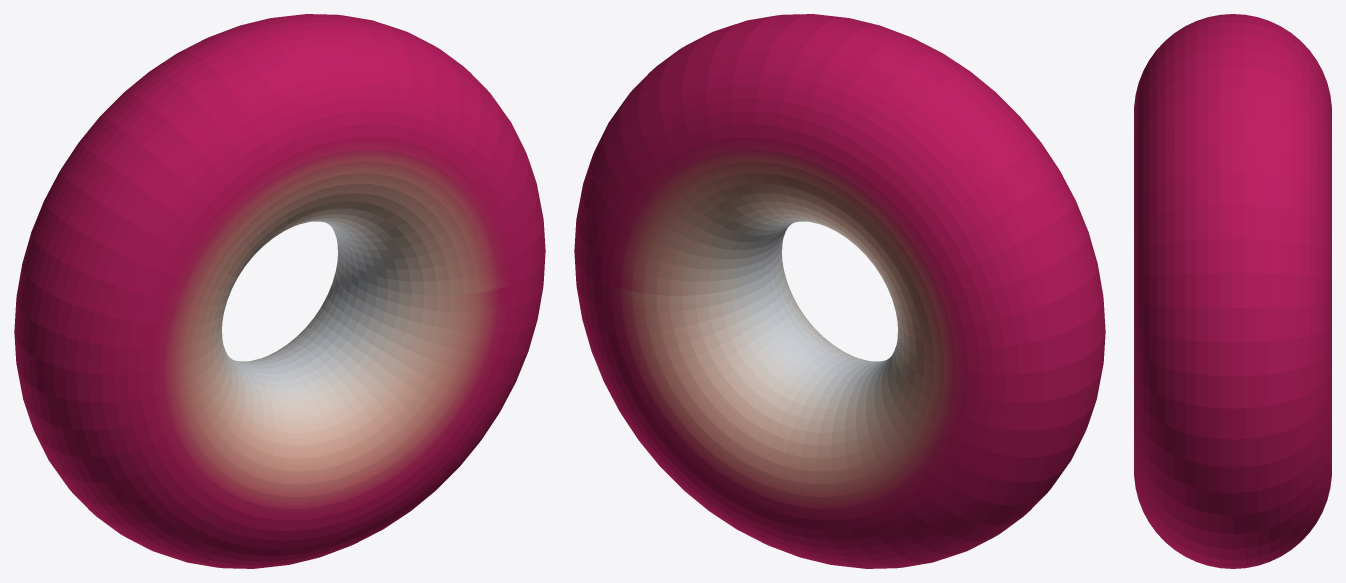
The picture shows the model from 3 angles, left to right: view 1: azimuth 30°, elevation 25°; view 2: azimuth 150°, elevation 25°; view 3: azimuth 270°, elevation 25°; orthographic projection. The views are drawn at different scales.
Parts seen in each view (by area): view 1: world; view 2: world; view 3: world.
Boxes of the visible parts, <box> form: world: <box>14,14,545,568</box>; world: <box>574,14,1105,568</box>; world: <box>1134,14,1331,568</box>.
Bounding box in the file's own units: 28 × 27.94 × 9.98.
